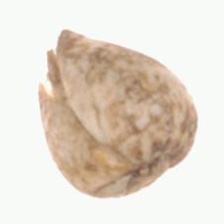L1: (36, 27, 76, 106), (118, 154, 189, 196)
L2: (37, 29, 199, 199)
